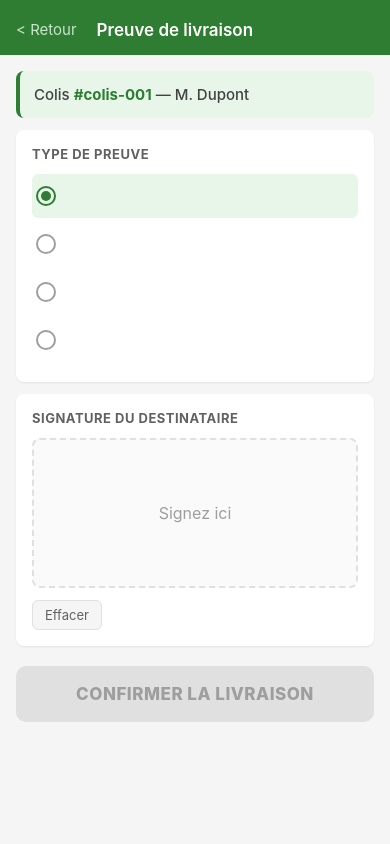
CapturePreuveScreen (US-008 + US-009) › US-009 SC4 : affiche le champ description après sélection DEPOT_SECURISE
The width and height of the screenshot is (390, 844).
Click the radio button with test id "type-preuve-DEPOT_SECURISE": (46, 340) x1=36 y1=330 x2=56 y2=350
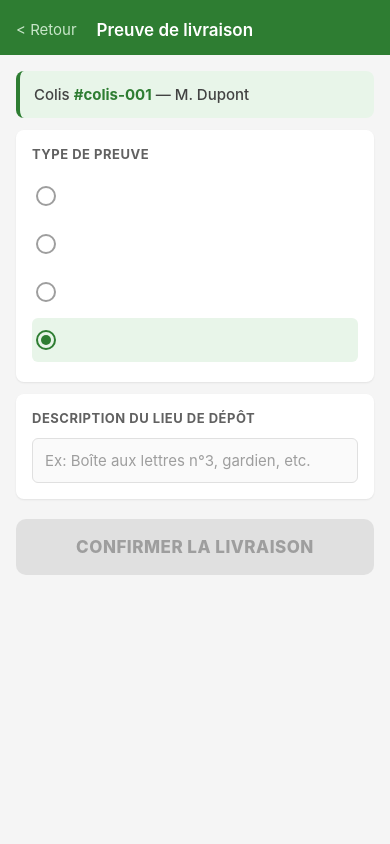
Result: the field with test id "champ-description-depot" is shown at x1=32 y1=438 x2=358 y2=483
